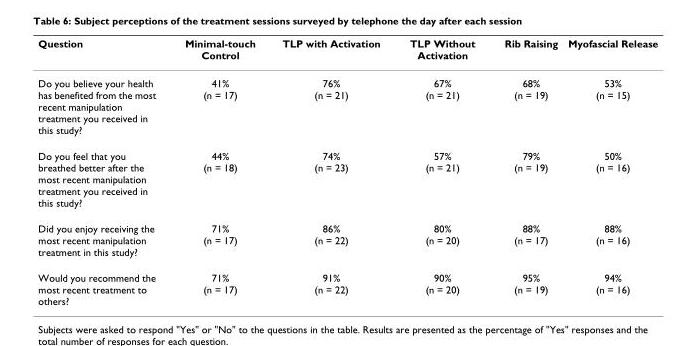table: (37, 36, 657, 306)
table column: (37, 36, 169, 306), (268, 36, 394, 306), (169, 36, 268, 306), (394, 36, 489, 306), (562, 36, 657, 306), (489, 36, 562, 306)
table column header: (37, 36, 657, 68)
table row: (37, 68, 657, 142), (37, 142, 657, 215), (37, 215, 657, 264), (37, 264, 657, 306), (37, 36, 657, 68)
